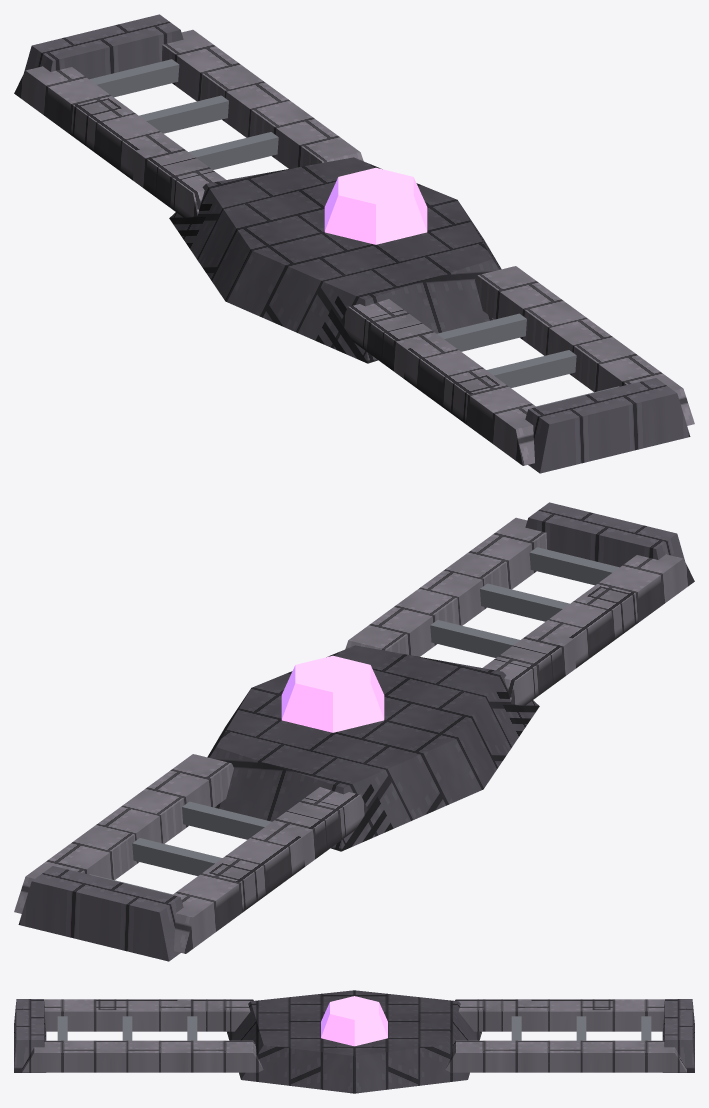
File: loom_iris.glb
3 views of the same model, one above another, from view 1: azimuth 30°, elevation 25°; view 2: azimuth 150°, elevation 25°; view 3: azimuth 270°, elevation 25° (orthographic). The views are drawn at different scales.
Bounding box in the file's own units: 24 × 7 × 84.
Materials: 6 (4 with a texture image).
